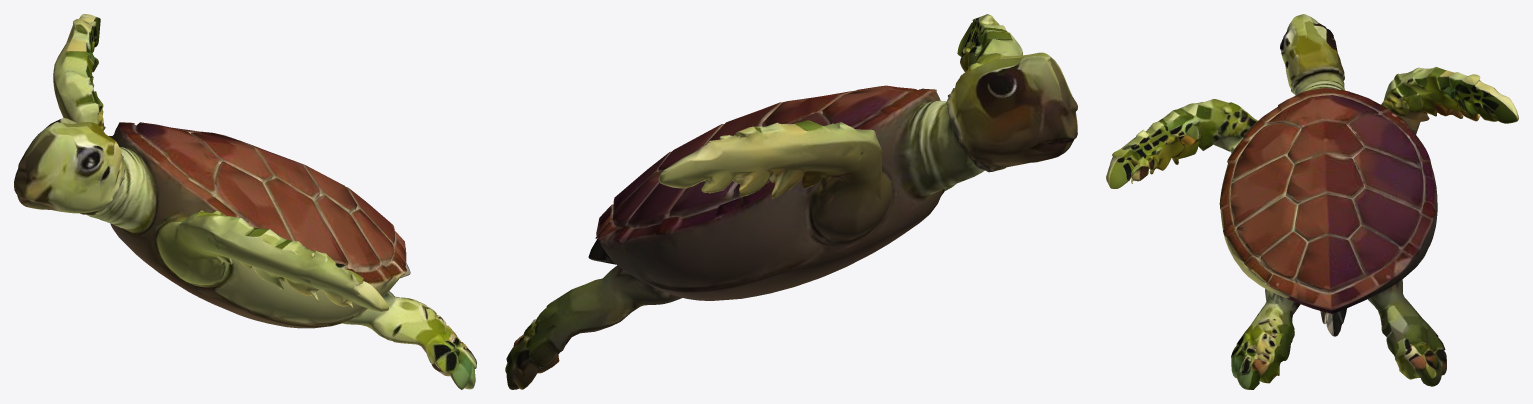
Rendered from turtle.glb.
The picture shows the model from 3 angles, left to right: view 1: azimuth 30°, elevation 25°; view 2: azimuth 150°, elevation 25°; view 3: azimuth 270°, elevation 25°; orthographic projection. The views are drawn at different scales.
Visible parts, largest first — view 1: tripo_node_7976fba7-1300-489b-9fd7-6482ba8822ef; view 2: tripo_node_7976fba7-1300-489b-9fd7-6482ba8822ef; view 3: tripo_node_7976fba7-1300-489b-9fd7-6482ba8822ef.
Boxes of the visible parts, x1,y1,x2,y2 form: tripo_node_7976fba7-1300-489b-9fd7-6482ba8822ef: [14, 14, 476, 389]; tripo_node_7976fba7-1300-489b-9fd7-6482ba8822ef: [505, 14, 1077, 389]; tripo_node_7976fba7-1300-489b-9fd7-6482ba8822ef: [1106, 14, 1518, 389].
Size of the model in its own units: 0.8577 by 0.6442 by 0.9997.
1 material, 1 textured.
